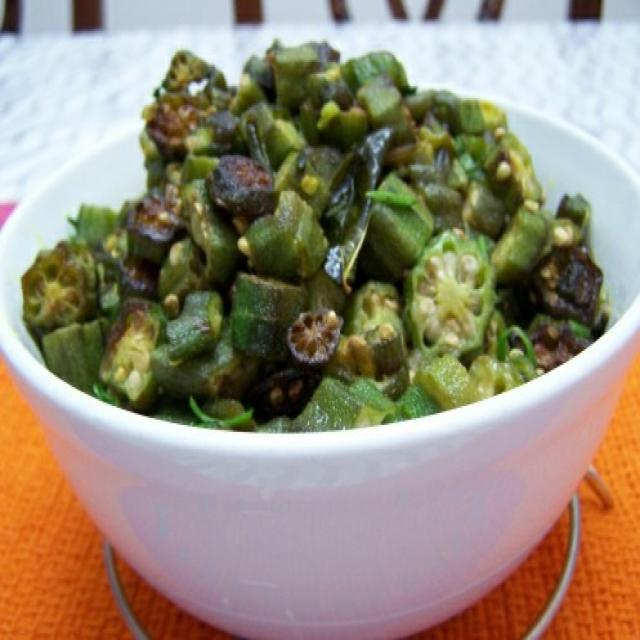BhindiMasala: (1, 36, 640, 435)
